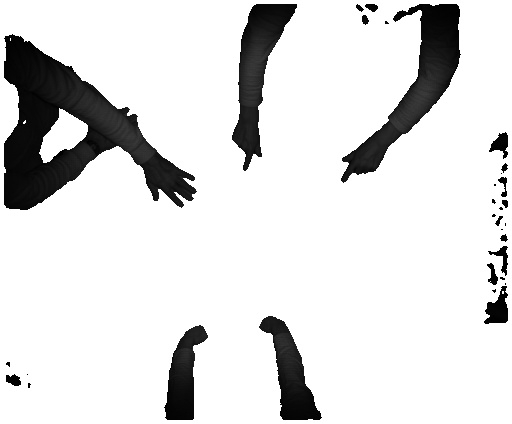fist: (168, 320, 207, 346), (256, 312, 289, 336)
hand: (144, 159, 199, 207), (336, 137, 387, 183), (232, 114, 263, 175)
